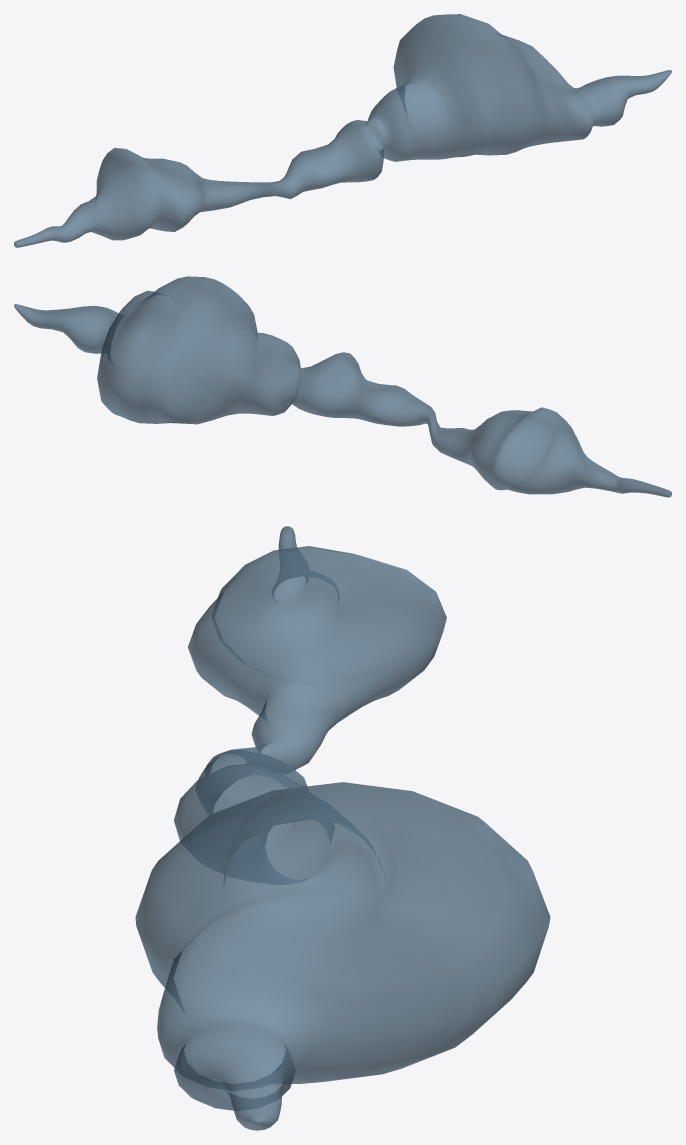
Rendered from cloud4.fbx.
The picture shows the model from 3 angles, top to bottom: view 1: azimuth 30°, elevation 25°; view 2: azimuth 150°, elevation 25°; view 3: azimuth 270°, elevation 25°; orthographic projection. The views are drawn at different scales.
Parts seen in each view (by area): view 1: Cloud_FG1; view 2: Cloud_FG1; view 3: Cloud_FG1.
Part boxes in pixels (left/top/right/bottom): Cloud_FG1: left=14, top=14, right=671, bottom=247; Cloud_FG1: left=14, top=276, right=671, bottom=497; Cloud_FG1: left=135, top=526, right=550, bottom=1130.
Size of the model in its own units: 590 by 107 by 163.
